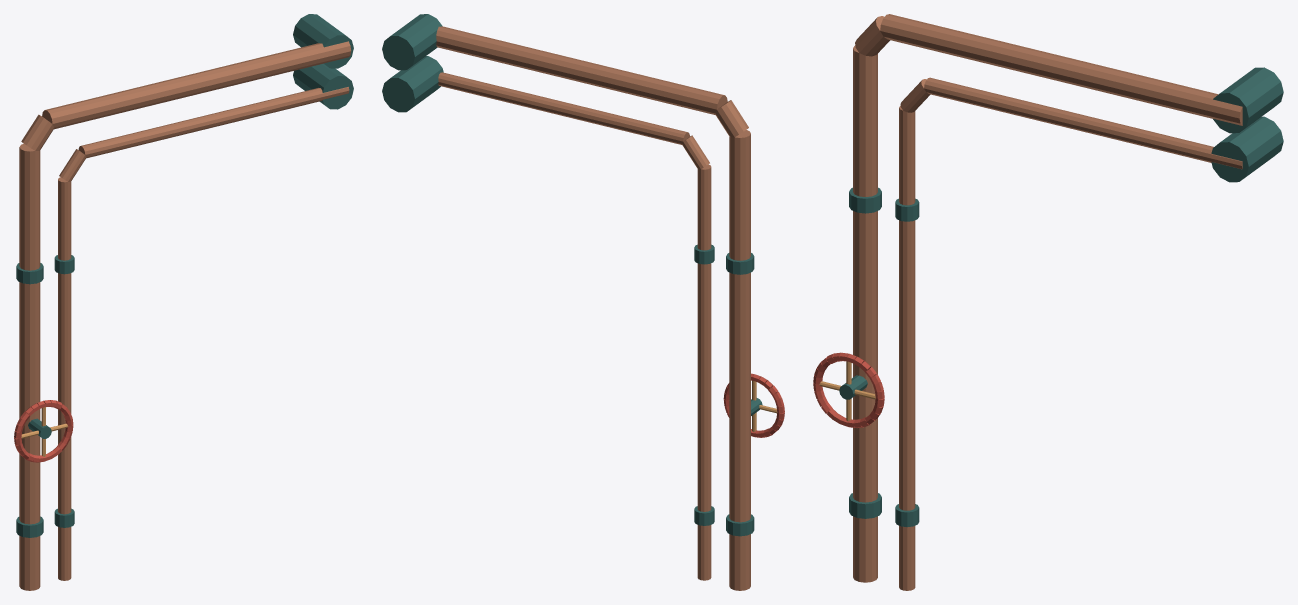
The model's file is ReturnManifold.glb.
The picture shows the model from 3 angles, left to right: view 1: azimuth 30°, elevation 25°; view 2: azimuth 150°, elevation 25°; view 3: azimuth 330°, elevation 25°; orthographic projection. The views are drawn at different scales.
Visible parts, largest first — view 1: ReturnManifold; view 2: ReturnManifold; view 3: ReturnManifold.
Part boxes in pixels (<box>): ReturnManifold: <box>14,14,353,590</box>; ReturnManifold: <box>382,14,784,590</box>; ReturnManifold: <box>813,14,1283,590</box>.
Bounding box in the file's own units: 1.62 × 2.11 × 0.338.
